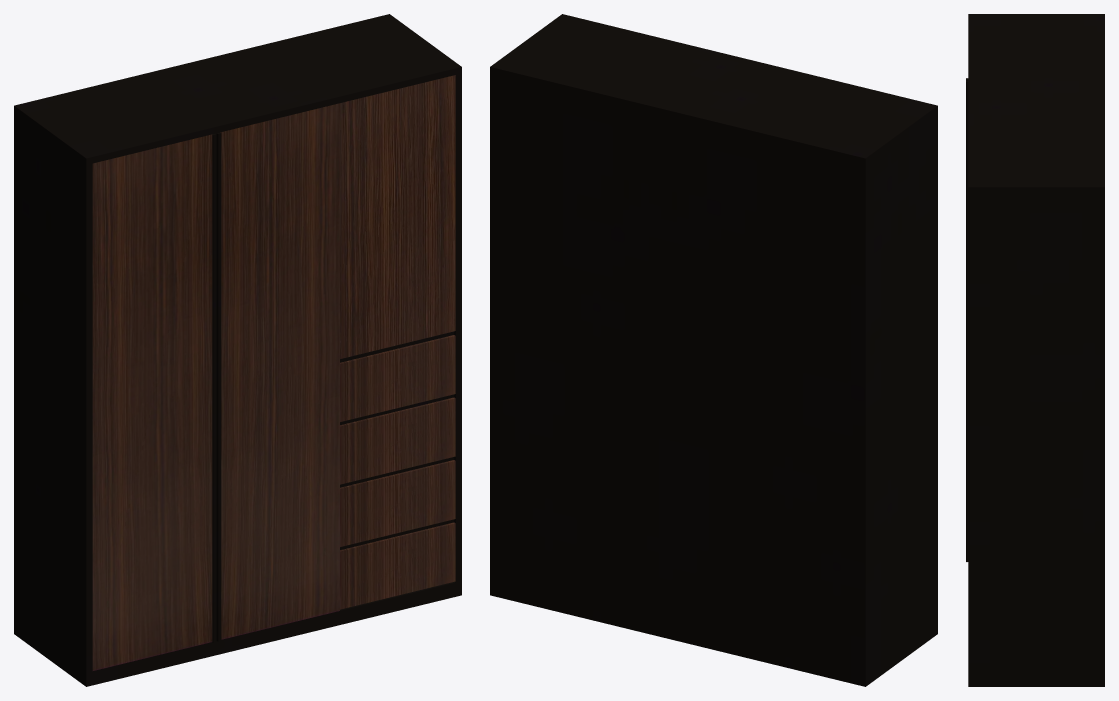
The model's file is almirah1-var1.glb.
The picture shows the model from 3 angles, left to right: view 1: azimuth 30°, elevation 25°; view 2: azimuth 150°, elevation 25°; view 3: azimuth 270°, elevation 25°; orthographic projection. The views are drawn at different scales.
Parts seen in each view (by area): view 1: Tu ao_01 - Default_0; view 2: Tu ao_01 - Default_0; view 3: Tu ao_01 - Default_0.
Boxes of the visible parts, x1,y1,x2,y2 form: Tu ao_01 - Default_0: [14, 14, 461, 686]; Tu ao_01 - Default_0: [490, 14, 937, 686]; Tu ao_01 - Default_0: [966, 14, 1104, 686].
Bounding box in the file's own units: 1.8 × 2.41 × 0.6085.
Materials: 1 (1 with a texture image).
